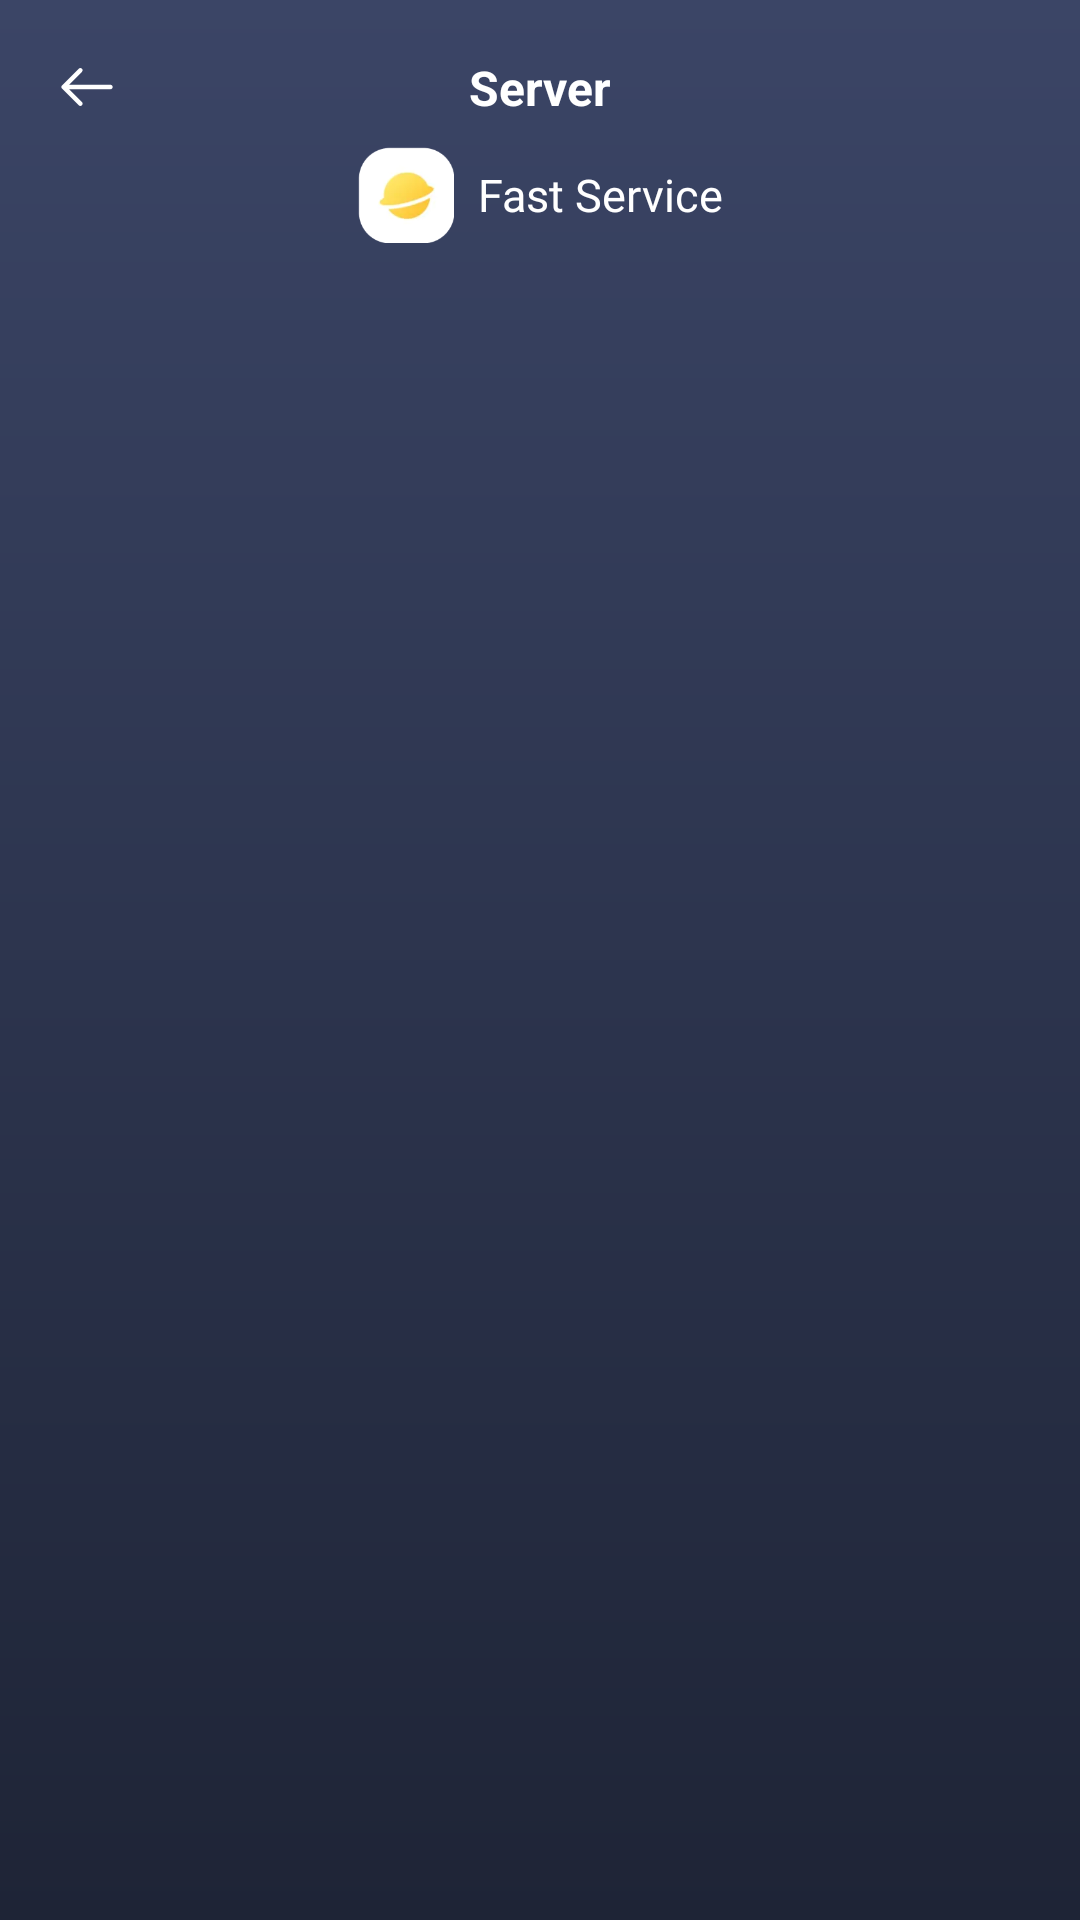

Screen size 1080px×1920px. Icon name, then its box in pixels as (x1, y1, x2, y2):
finish: (61, 68, 113, 106)
